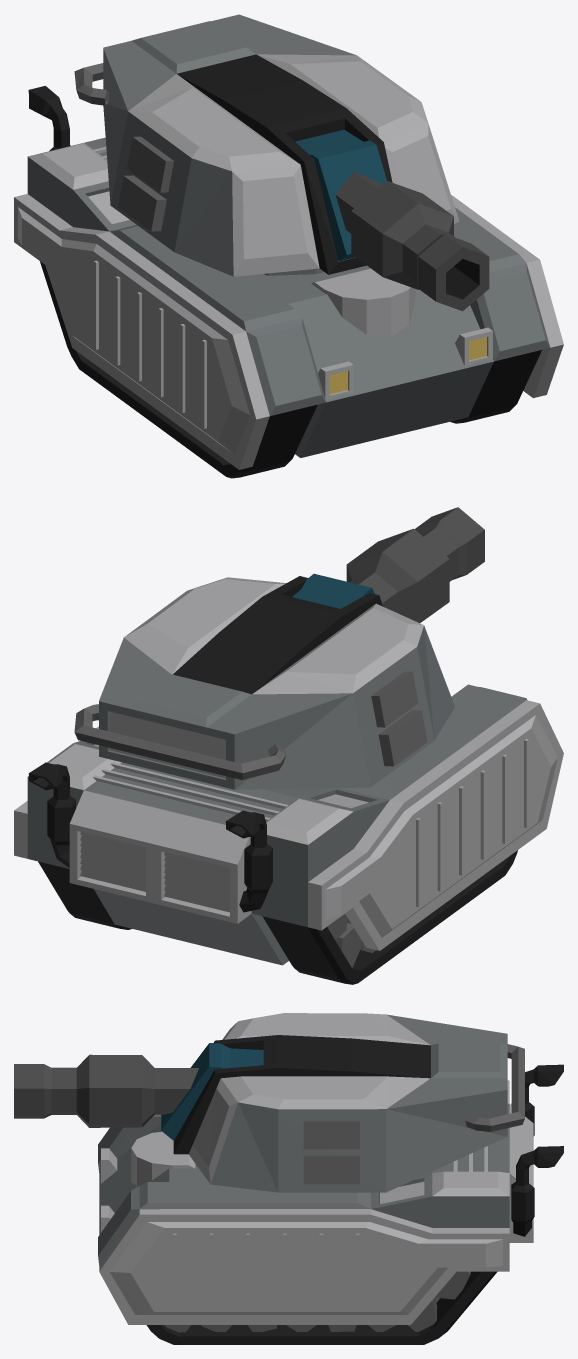
The model's file is Tank_2.dae.
3 views of the same model, one above another, from view 1: azimuth 30°, elevation 25°; view 2: azimuth 150°, elevation 25°; view 3: azimuth 270°, elevation 25° (orthographic). The views are drawn at different scales.
Visible parts, largest first — view 1: Base, Turret, Cannon; view 2: Base, Turret, Cannon, Cog_013; view 3: Base, Turret, Cannon, Cog_006, Cog_005.
Boxes of the visible parts, <box> form: Base: <box>14,86,563,478</box>; Turret: <box>74,14,459,276</box>; Cannon: <box>295,129,489,311</box>; Base: <box>14,684,563,984</box>; Turret: <box>74,576,454,789</box>; Cannon: <box>292,507,484,622</box>; Cog_013: <box>335,923,362,967</box>; Base: <box>98,1064,563,1344</box>; Turret: <box>173,1013,524,1192</box>; Cannon: <box>14,1043,263,1140</box>; Cog_006: <box>435,1271,470,1299</box>; Cog_005: <box>407,1297,437,1331</box>.
Size of the model in its own units: 2.6 by 4.5 by 2.16.
